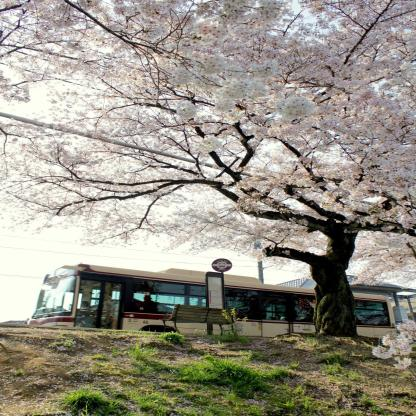Someiyoshino: (3, 2, 414, 286)
